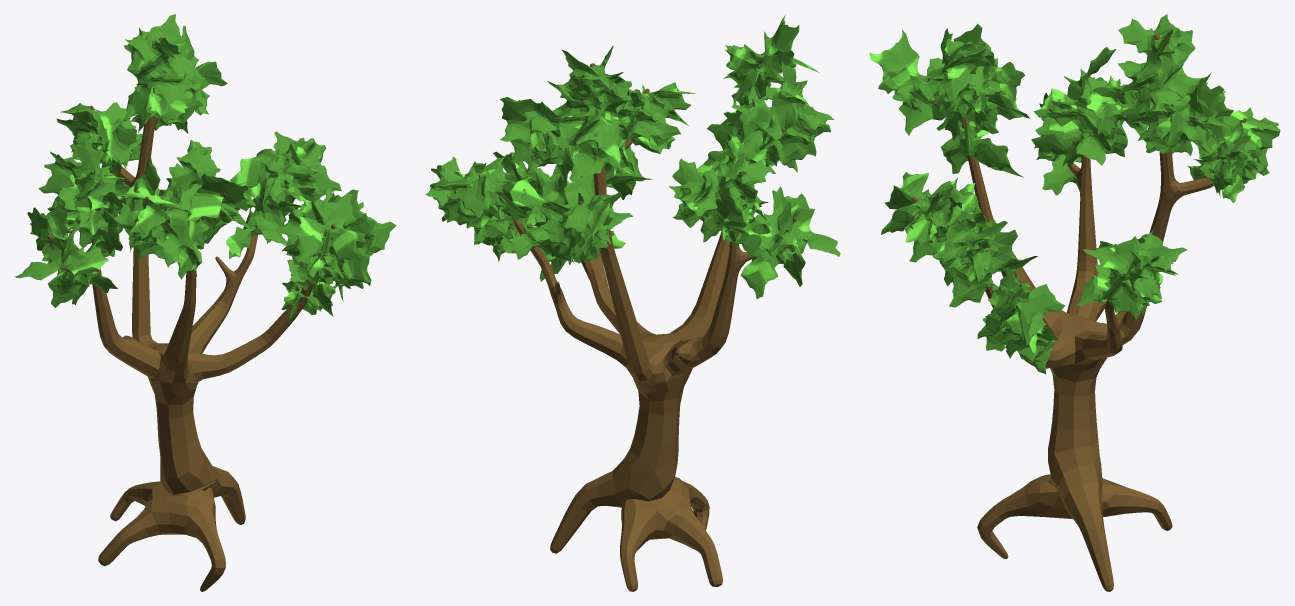
Rendered from arbol3.fbx.
The picture shows the model from 3 angles, left to right: view 1: azimuth 30°, elevation 25°; view 2: azimuth 150°, elevation 25°; view 3: azimuth 270°, elevation 25°; orthographic projection. The views are drawn at different scales.
Visible parts, largest first — view 1: Icosphere.028 - copy.141; view 2: Icosphere.028 - copy.141; view 3: Icosphere.028 - copy.141.
Boxes of the visible parts, x1=… form: Icosphere.028 - copy.141: x1=14, y1=14, x2=396, y2=591; Icosphere.028 - copy.141: x1=425, y1=14, x2=840, y2=591; Icosphere.028 - copy.141: x1=869, y1=14, x2=1280, y2=591.
Size of the model in its own units: 868 by 932 by 1290.
